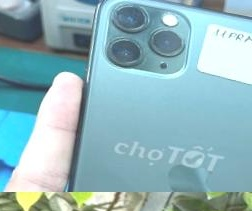scratch: (98, 0, 194, 78)
